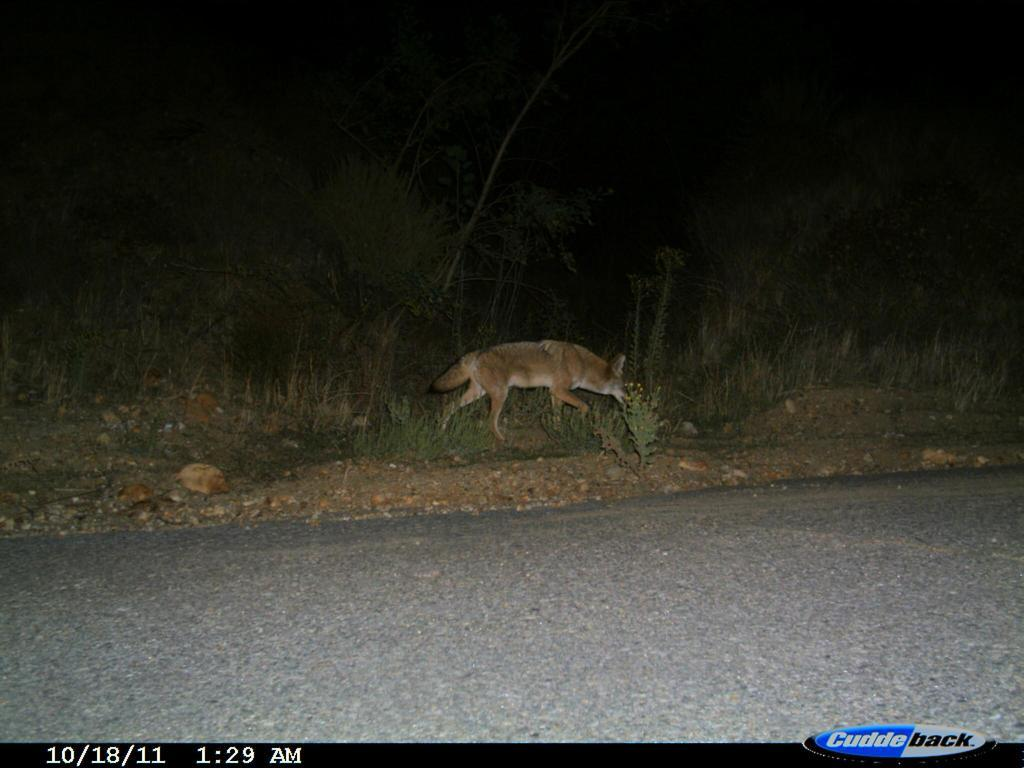coyote: (425, 341, 637, 443)
